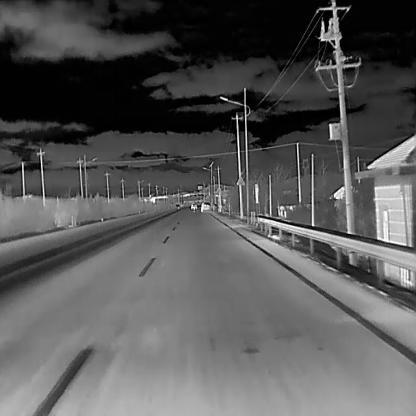car: (200, 201, 211, 214), (189, 202, 198, 211)
